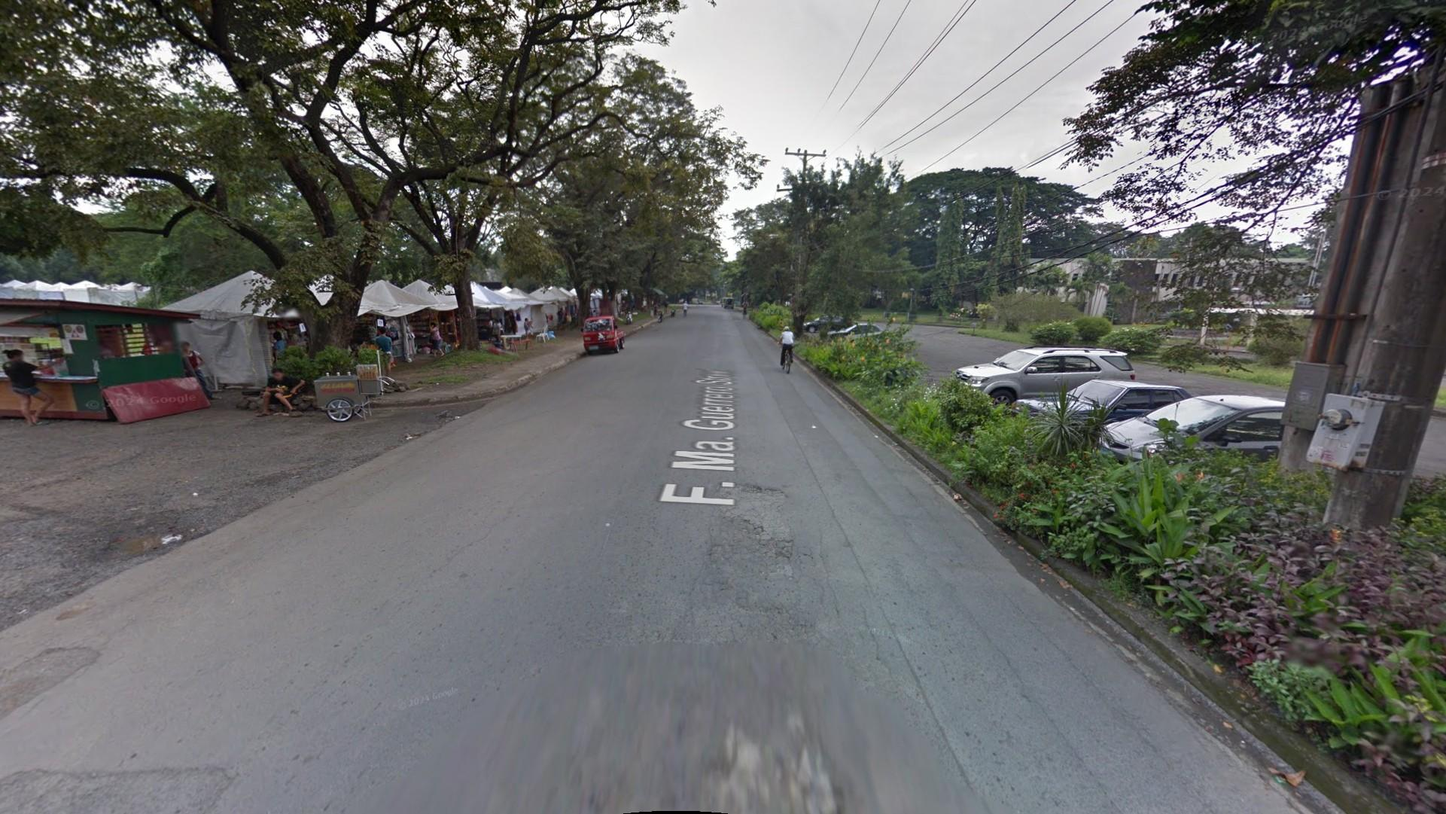cyclist: (777, 326, 795, 375)
pedestrian: (2, 348, 55, 429), (177, 337, 221, 402), (256, 368, 306, 417), (268, 330, 287, 383), (373, 327, 391, 381), (428, 321, 444, 357), (495, 317, 503, 343), (523, 318, 532, 341), (487, 317, 495, 342), (556, 307, 564, 330), (742, 300, 748, 320), (653, 302, 658, 319), (683, 301, 688, 317), (664, 299, 669, 315)
